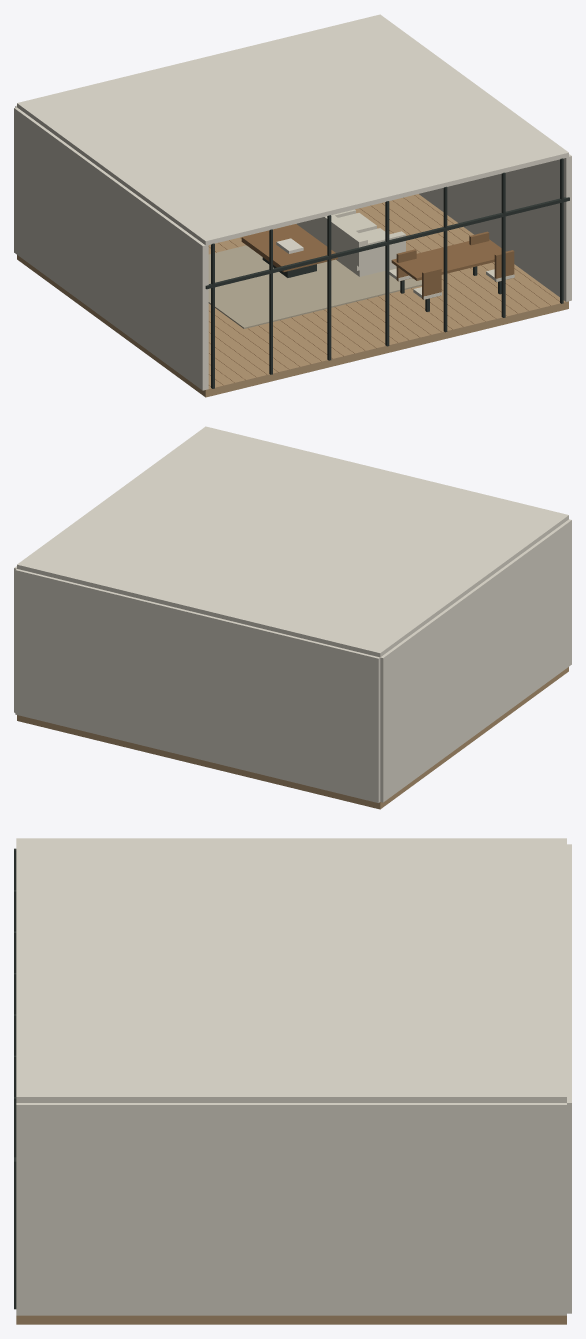
The model's file is living.glb.
3 views of the same model, one above another, from view 1: azimuth 30°, elevation 25°; view 2: azimuth 150°, elevation 25°; view 3: azimuth 270°, elevation 25° (orthographic). The views are drawn at different scales.
Bounding box in the file's own units: 10.16 × 4.11 × 9.12.
